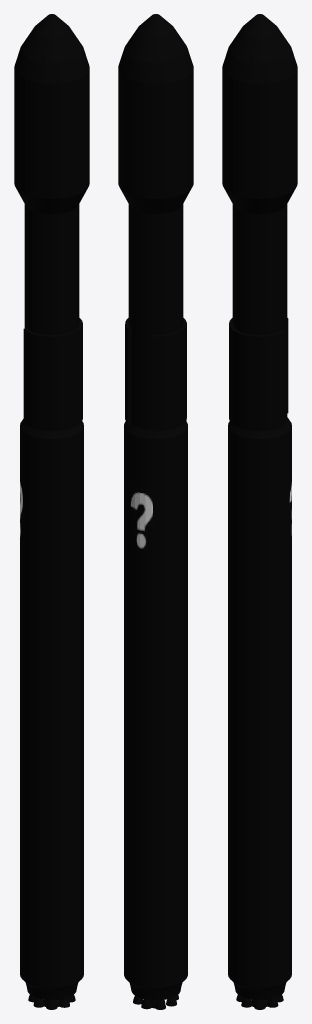
File: starship.glb
3 views of the same model, side by side, from view 1: azimuth 90°, elevation 25°; view 2: azimuth 150°, elevation 25°; view 3: azimuth 270°, elevation 25° (orthographic).
Visible parts, largest first — view 1: Cylinder, Cylinder.001; view 2: Cylinder, Cylinder.001; view 3: Cylinder, Cylinder.001.
Part boxes in pixels (x1,y1,x2,y2): Cylinder: [14, 14, 89, 1007]; Cylinder.001: [28, 995, 75, 1009]; Cylinder: [118, 14, 193, 1008]; Cylinder.001: [133, 995, 178, 1009]; Cylinder: [222, 14, 297, 1006]; Cylinder.001: [236, 995, 283, 1009].
Bounding box in the file's own units: 0.9133 × 13.18 × 0.9133.
Materials: 2 (1 with a texture image).
